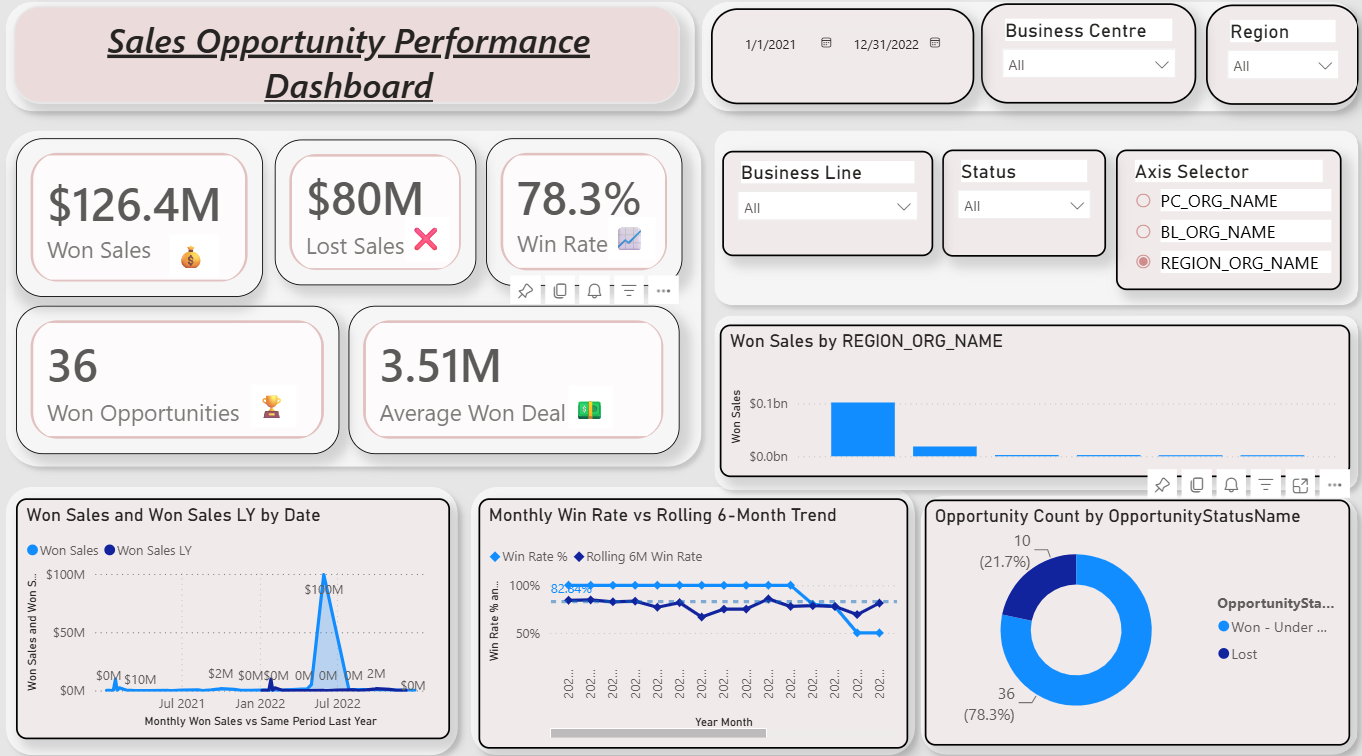

The page's visual inventory and layout, read from the dashboard file:
{"tool":"powerbi","page":{"name":"Page 1","canvas":[1280,720],"ordinal":0},"visuals":[{"type":"shape","box":[433.6,451.9,432.4,268.4],"z":1000},{"type":"shape","box":[0,451.9,439.7,268.4],"z":2000},{"type":"shape","box":[660.8,292.7,619.5,181],"z":3000},{"type":"shape","box":[660.8,120.3,619.5,181],"z":4000},{"type":"shape","box":[0,120.3,666.8,331.6],"z":5000},{"type":"cardVisual","fields":{"Data":["Measure (2).Won Opportunities"]},"box":[18.2,292.7,301.2,138.5],"z":6000},{"type":"shape","box":[649.8,0,630.4,120.3],"z":7000},{"type":"shape","box":[0,0,660.8,120.3],"z":8000},{"type":"cardVisual","fields":{"Data":["Measure (2).Lost Sales"]},"box":[259.9,137.3,188.3,136],"z":9000},{"type":"cardVisual","fields":{"Data":["Measure (2).Win Rate"]},"box":[456.7,136,183.4,137.3],"z":10000},{"type":"cardVisual","fields":{"Data":["Measure (2).Won Sales"]},"box":[18.2,136,230.8,148.2],"z":11000},{"type":"lineChart","fields":{"Category":["Calendar.Date"],"Y":["Measure (2).Won Sales","Measure (2).Won Sales LY"]},"box":[18.2,472.5,404.5,224.7],"z":12000},{"type":"cardVisual","fields":{"Data":["Measure (2).Average Won Deal"]},"box":[329.2,292.7,308.5,138.5],"z":13000},{"type":"textbox","box":[161.5,225.9,46.5,40.4],"z":14000},{"type":"textbox","box":[238.1,365.6,42.8,40.4],"z":15000},{"type":"textbox","box":[570.9,210.1,44,40.4],"z":16000},{"type":"textbox","box":[381.4,210.1,41.6,41.6],"z":17000},{"type":"textbox","box":[534.4,366.8,41.6,40.4],"z":18000},{"type":"lineChart","title":"Monthly Win Rate vs Rolling 6-Month Trend","fields":{"Category":["Calendar.Year Month"],"Y":["Measure (2).Win Rate %","Measure (2).Rolling 6M Win Rate"]},"box":[449.4,472.5,400.8,233.2],"z":19000},{"type":"slicer","fields":{"Values":["Status.OpportunityStatusName"]},"box":[883,147,153,99.6],"z":20000},{"type":"slicer","fields":{"Values":["BC.PC_ORG_NAME"]},"box":[919,10.9,201,93.5],"z":21000},{"type":"slicer","fields":{"Values":["BL.BL_ORG_NAME"]},"box":[677.8,148.2,196.8,98.4],"z":22000},{"type":"slicer","fields":{"Values":["Region.REGION_ORG_NAME"]},"box":[1128.4,12.1,143.3,93.5],"z":23000},{"type":"slicer","fields":{"Values":["Calendar.Date"]},"box":[666.8,14.6,245.4,89.9],"z":24000},{"type":"clusteredColumnChart","fields":{"Category":["Region.REGION_ORG_NAME"],"Y":["Measure (2).Won Sales"]},"box":[675.3,309.7,587.9,142.1],"z":25000},{"type":"textbox","title":"Sales Opportunity Performance Dashboard","box":[15.8,13.4,621.9,91.1],"z":26000},{"type":"slicer","fields":{"Values":["Axis Selector.Axis Selector"]},"box":[1044.6,147,210.1,131.2],"z":27000},{"type":"shape","box":[853.9,460.4,426.3,259.9],"z":28000},{"type":"donutChart","fields":{"Category":["Status.OpportunityStatusName"],"Y":["Measure (2).Opportunity Count"]},"box":[866,473.7,397.2,229.6],"z":28500}]}

Visuals, with their boxes in screenshot pixels (x1, y1, x2, y2), scaled from the page's 1280x720 canvas onto the 1362x756 screenshot:
shape: bbox=(461, 474, 921, 755)
shape: bbox=(0, 474, 468, 755)
shape: bbox=(703, 307, 1361, 497)
shape: bbox=(703, 126, 1361, 316)
shape: bbox=(0, 126, 710, 474)
cardVisual - Measure (2).Won Opportunities: bbox=(19, 307, 340, 453)
shape: bbox=(691, 0, 1361, 126)
shape: bbox=(0, 0, 703, 126)
cardVisual - Measure (2).Lost Sales: bbox=(277, 144, 477, 287)
cardVisual - Measure (2).Win Rate: bbox=(486, 143, 681, 287)
cardVisual - Measure (2).Won Sales: bbox=(19, 143, 265, 298)
lineChart - Calendar.Date x Measure (2).Won Sales: bbox=(19, 496, 450, 732)
cardVisual - Measure (2).Average Won Deal: bbox=(350, 307, 679, 453)
textbox: bbox=(172, 237, 221, 280)
textbox: bbox=(253, 384, 299, 426)
textbox: bbox=(607, 221, 654, 263)
textbox: bbox=(406, 221, 450, 264)
textbox: bbox=(569, 385, 613, 428)
"Monthly Win Rate vs Rolling 6-Month Trend" lineChart: bbox=(478, 496, 905, 741)
slicer - Status.OpportunityStatusName: bbox=(940, 154, 1102, 259)
slicer - BC.PC_ORG_NAME: bbox=(978, 11, 1192, 110)
slicer - BL.BL_ORG_NAME: bbox=(721, 156, 931, 259)
slicer - Region.REGION_ORG_NAME: bbox=(1201, 13, 1353, 111)
slicer - Calendar.Date: bbox=(710, 15, 971, 110)
clusteredColumnChart - Region.REGION_ORG_NAME x Measure (2).Won Sales: bbox=(719, 325, 1344, 474)
"Sales Opportunity Performance Dashboard" textbox: bbox=(17, 14, 679, 110)
slicer - Axis Selector.Axis Selector: bbox=(1112, 154, 1335, 292)
shape: bbox=(909, 483, 1361, 755)
donutChart - Status.OpportunityStatusName x Measure (2).Opportunity Count: bbox=(921, 497, 1344, 738)
